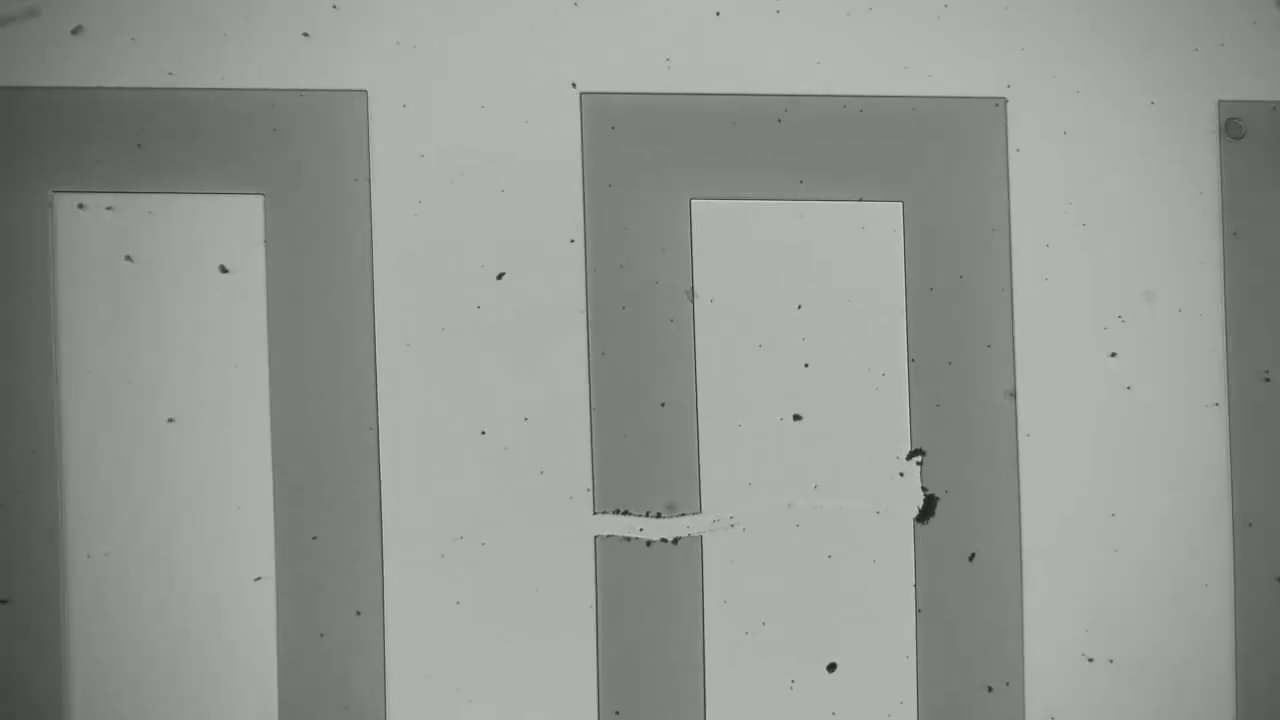Short_circuit: (556, 489, 740, 564)
